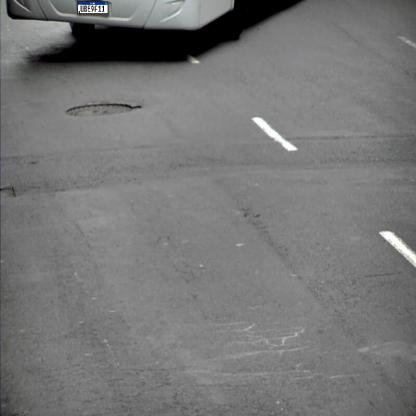PlacaM: (78, 1, 108, 14)
